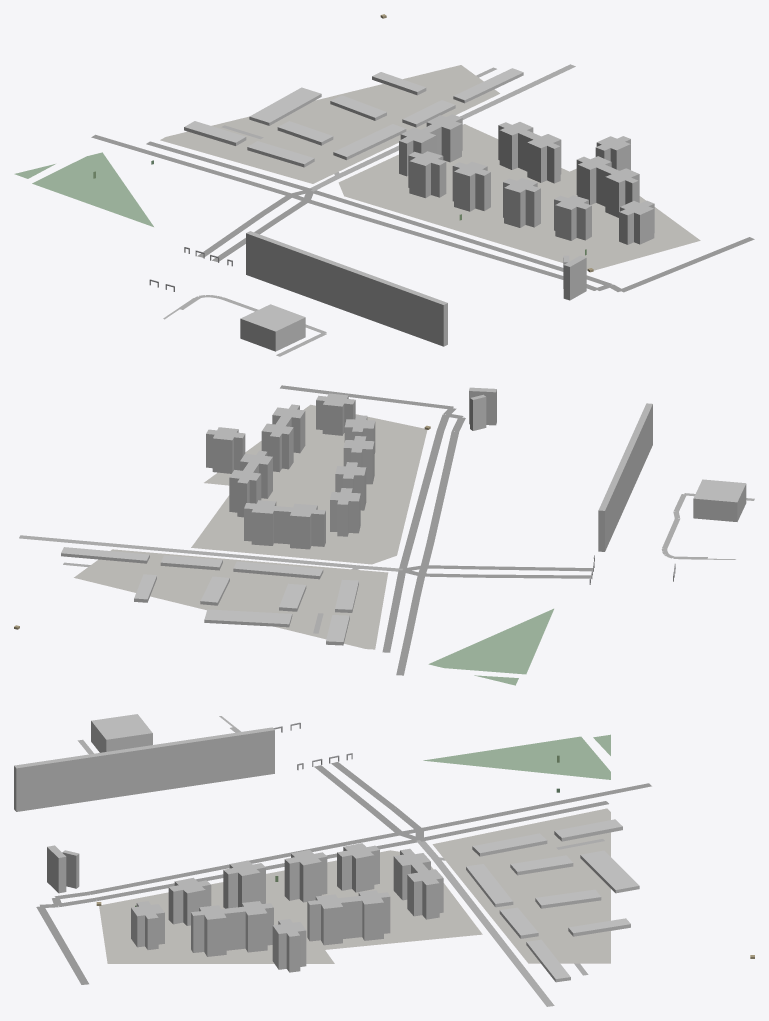
3 renders of one model, top to bottom at view 1: azimuth 30°, elevation 25°; view 2: azimuth 150°, elevation 25°; view 3: azimuth 270°, elevation 25°, orthographic. The views are drawn at different scales.
Bounding box in the file's own units: 587 × 41.36 × 632.
